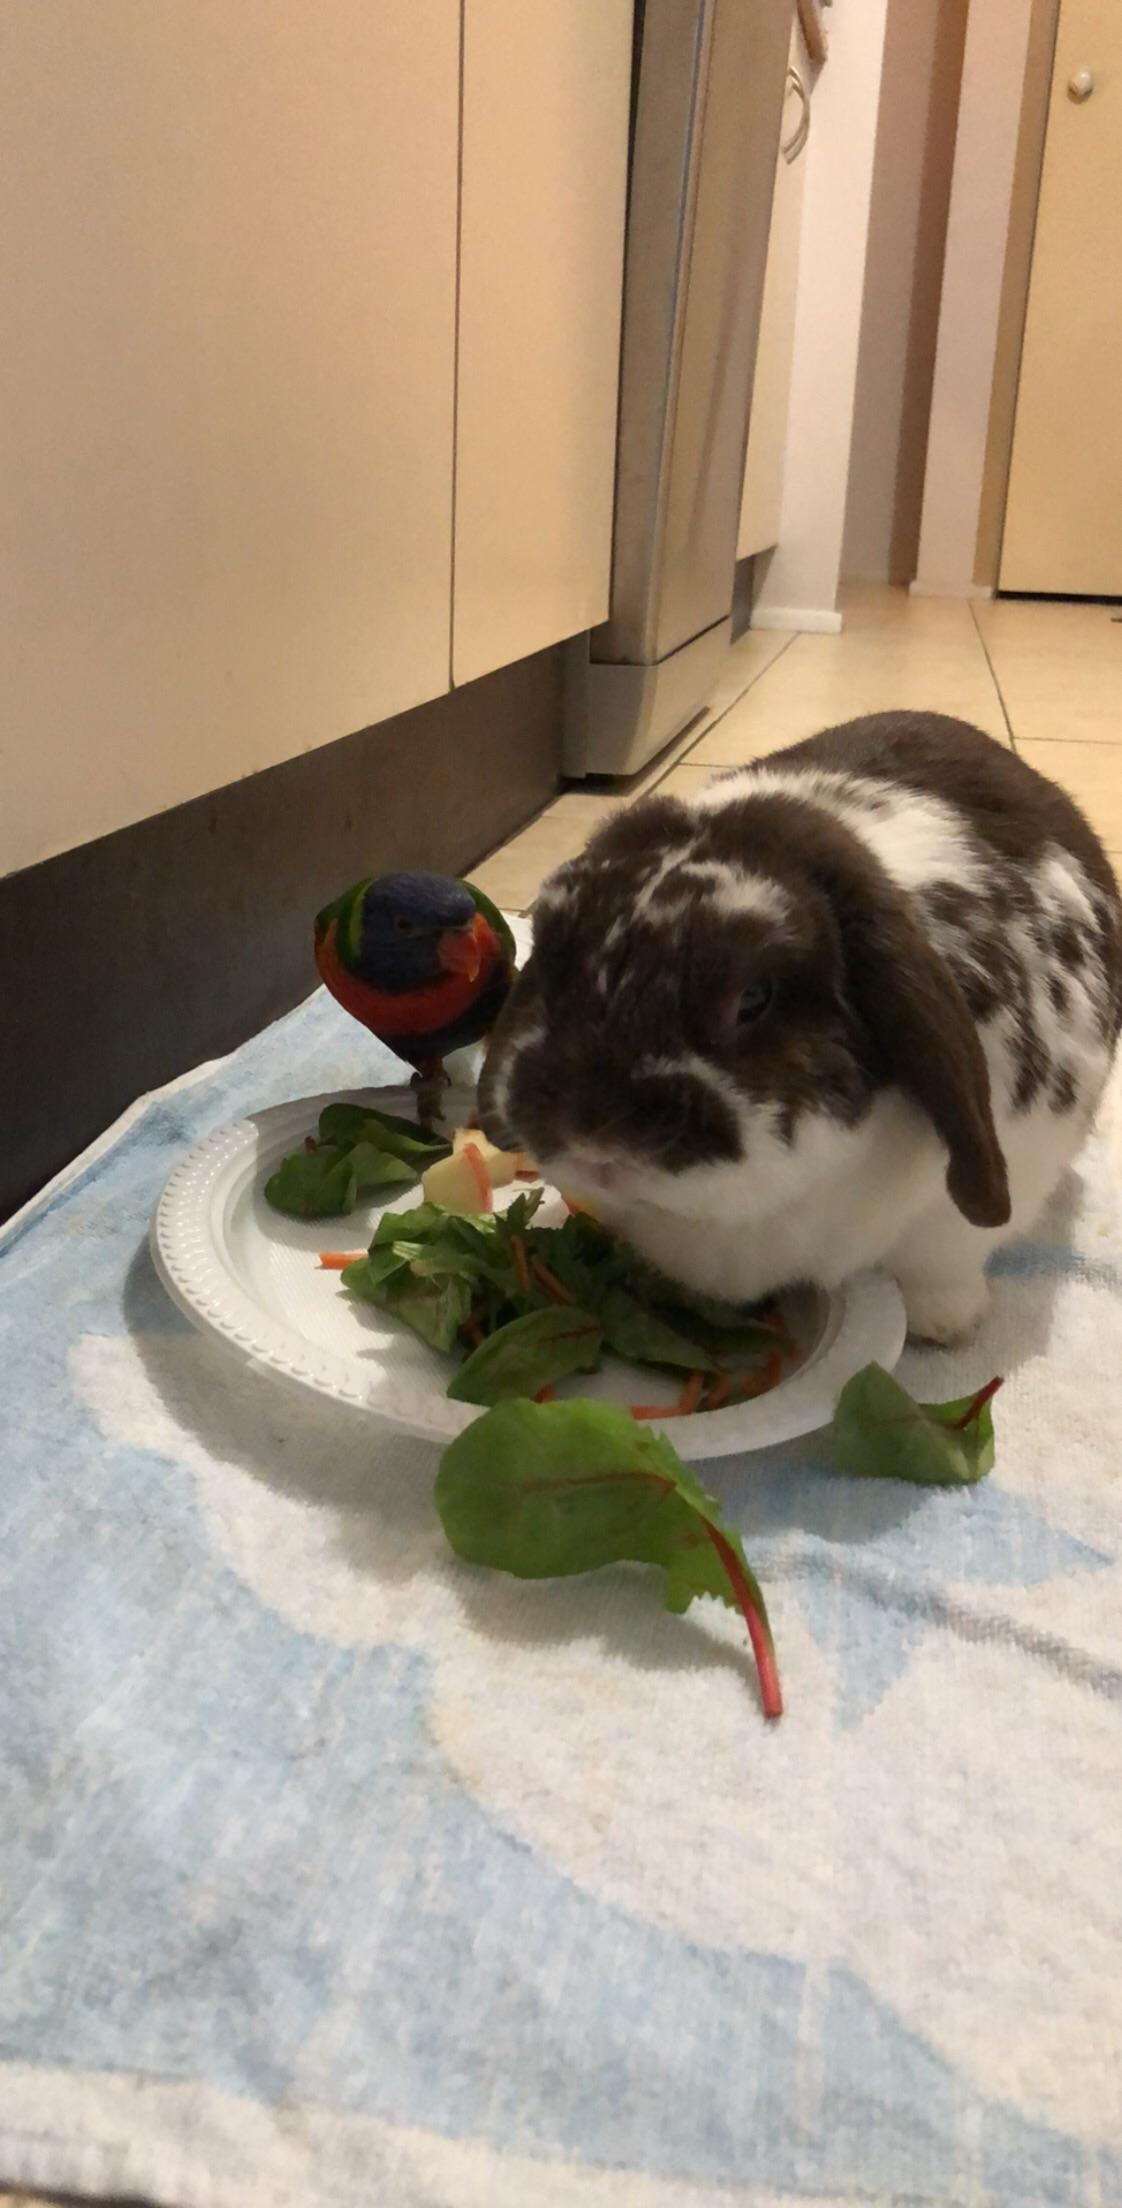bunny: (444, 691, 1122, 1392)
